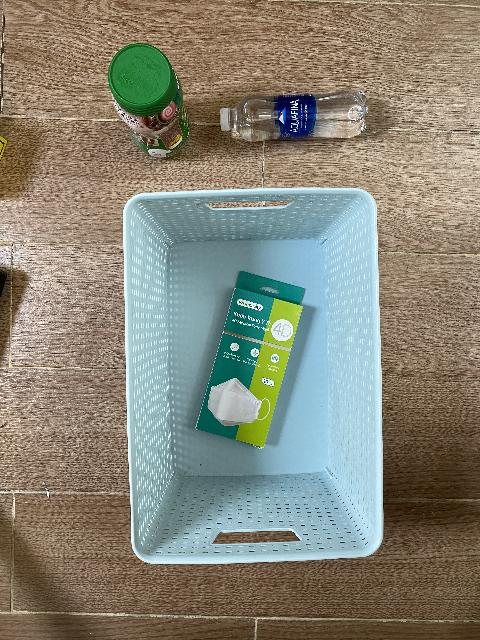4D_medical_face-mask: (195, 270, 305, 449)
aquafina: (220, 90, 369, 142)
cart: (122, 187, 384, 564)
milo: (107, 43, 189, 158)
